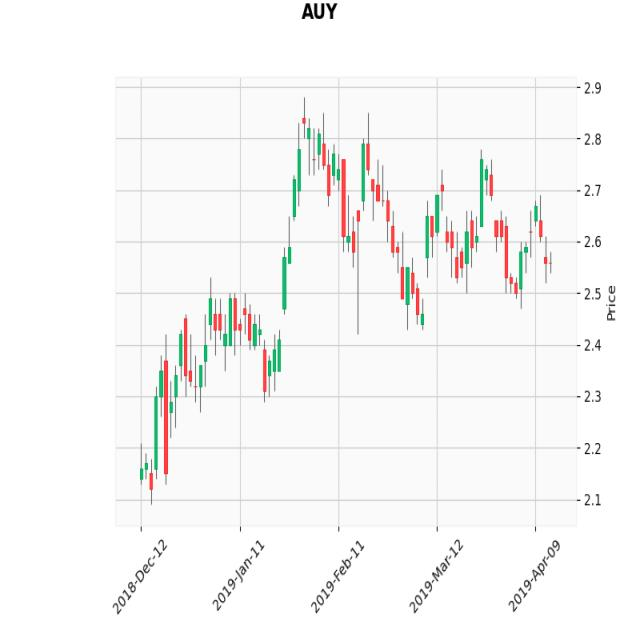Double-Top: (281, 109, 403, 271)
